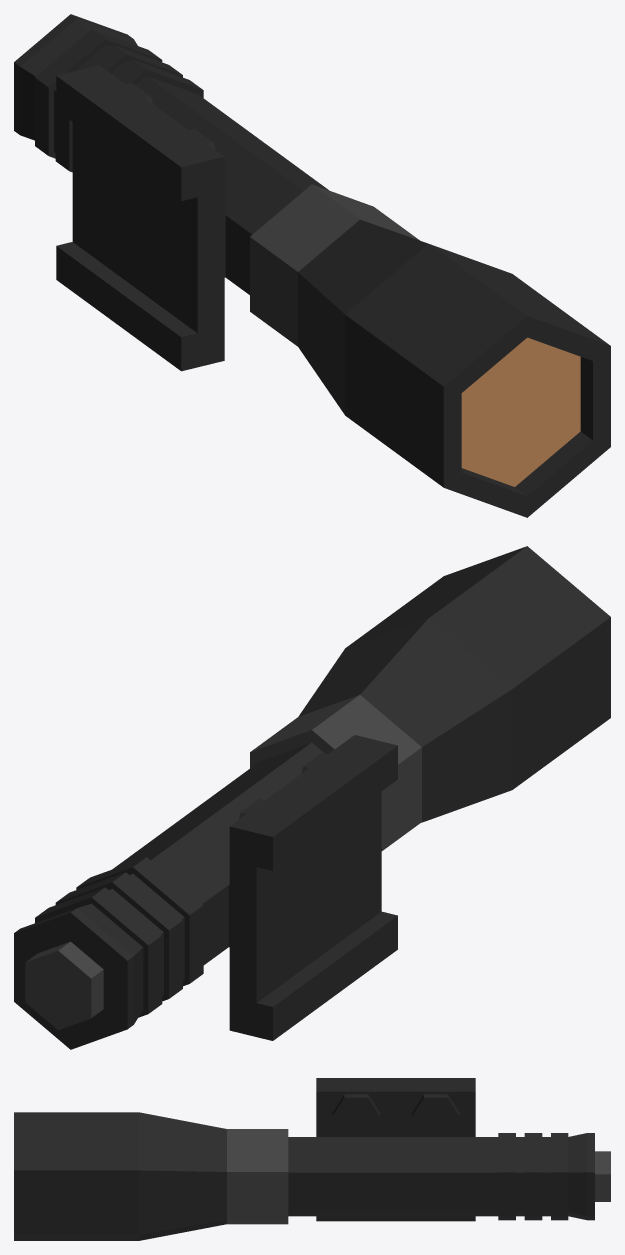
File: Light_A.fbx
3 renders of one model, top to bottom at view 1: azimuth 30°, elevation 25°; view 2: azimuth 150°, elevation 25°; view 3: azimuth 270°, elevation 25°, orthographic. The views are drawn at different scales.
Visible parts, largest first — view 1: Light_A.; view 2: Light_A.; view 3: Light_A..
Boxes of the visible parts, <box> form: Light_A.: <box>14,14,610,517</box>; Light_A.: <box>14,546,610,1049</box>; Light_A.: <box>14,1078,610,1240</box>.
Size of the model in its own units: 0.1772 by 0.18 by 0.75.
